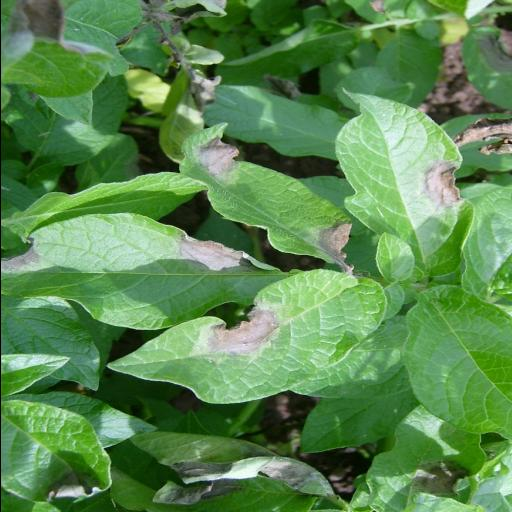Late Blight: (96, 268, 396, 404), (0, 212, 282, 332), (164, 116, 368, 278), (332, 84, 462, 274)
